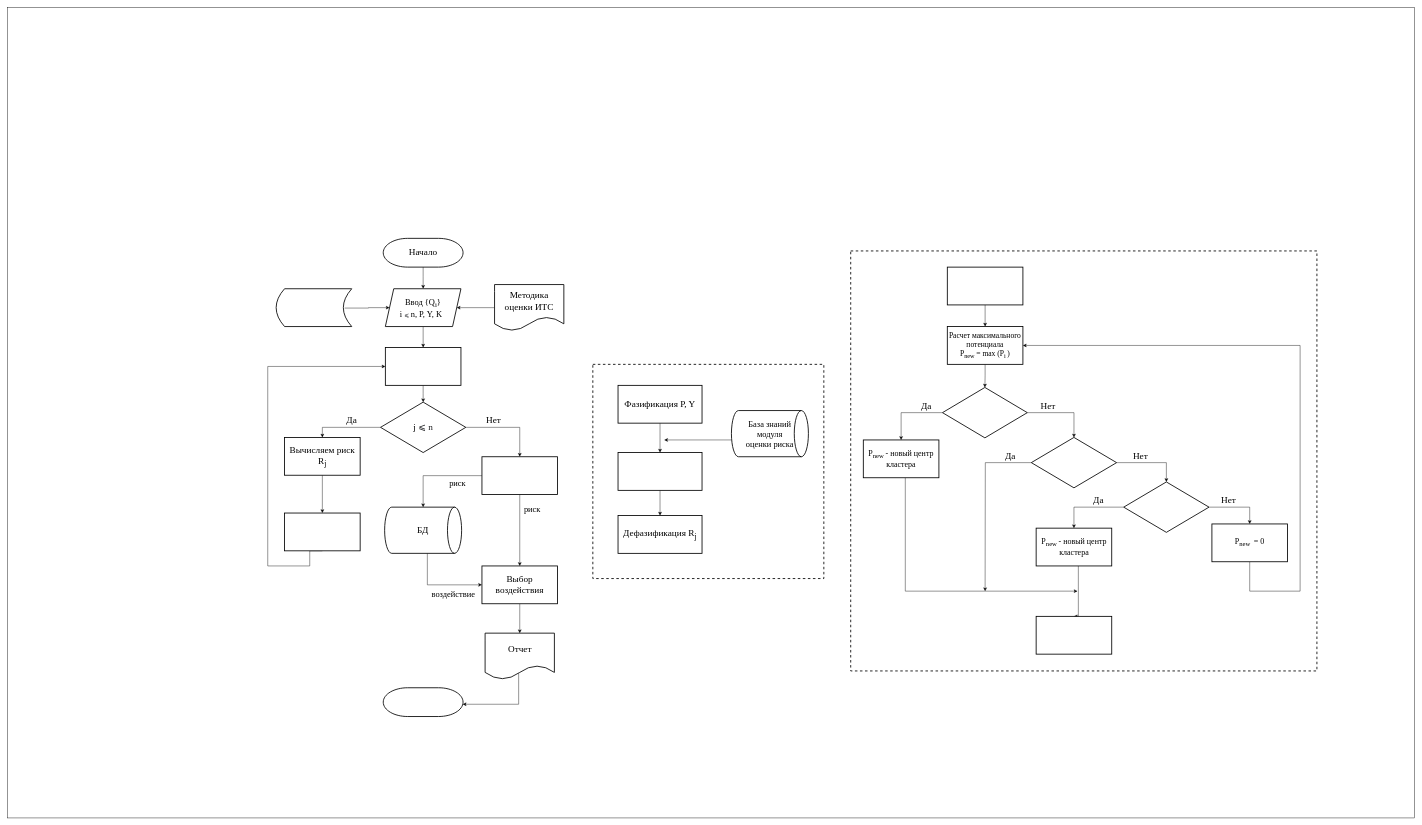
Some shapes in this 1422 by 825 pixel diagram are drawn without their labels. Here are the shapes that lost their labels. From the top down, the centre of each, then its label:
pixel 985 285: Расчет потенциала P i
pixel 314 307: БД СПА
pixel 423 366: j = 0
pixel 519 475: Разбиение на кластеры (FCM)
pixel 659 471: Нечеткий логический вывод
pixel 322 531: j = j + 1
pixel 1074 635: Пересчет потенциалов всех точек
pixel 423 702: Завершение
